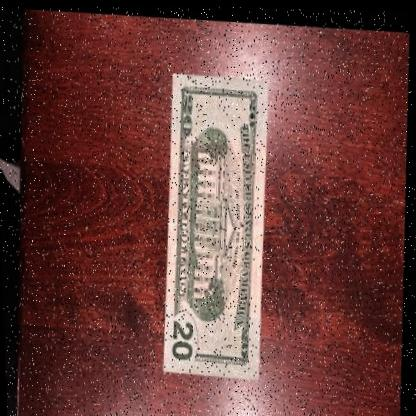dollar_back: (156, 66, 279, 379)
